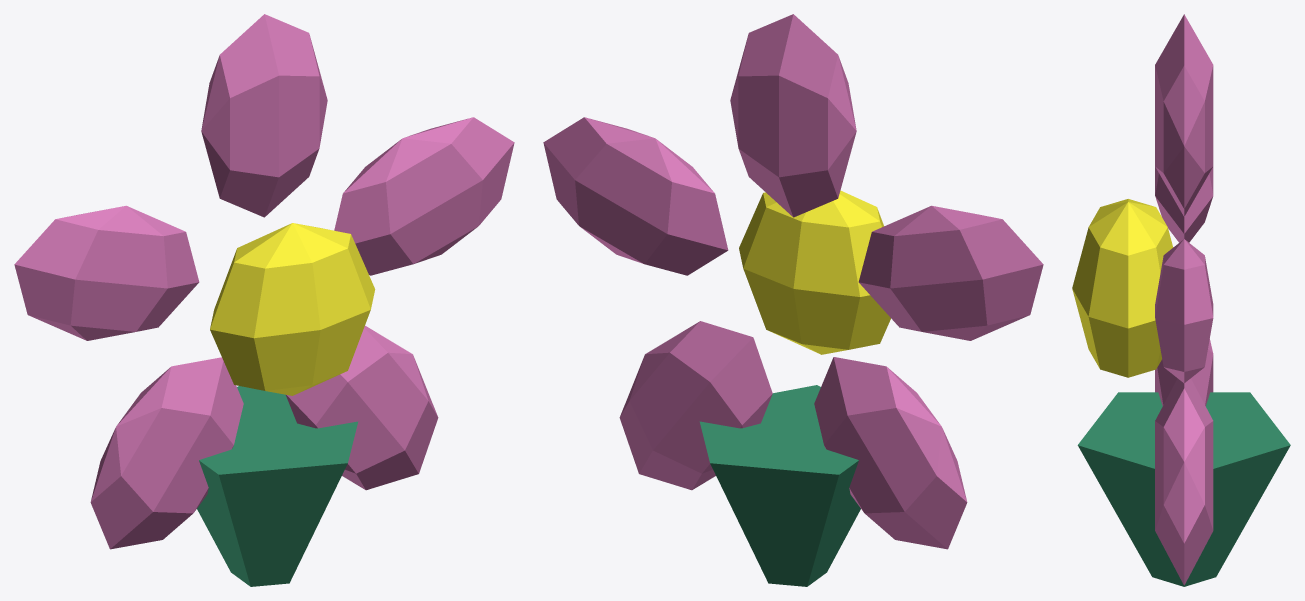
File: bloom.glb
The picture shows the model from 3 angles, left to right: view 1: azimuth 30°, elevation 25°; view 2: azimuth 150°, elevation 25°; view 3: azimuth 270°, elevation 25°; orthographic projection.
Parts seen in each view (by area): view 1: Bloom; view 2: Bloom; view 3: Bloom.
Part boxes in pixels (x1=…): Bloom: x1=14, y1=14, x2=514, y2=586; Bloom: x1=543, y1=14, x2=1043, y2=586; Bloom: x1=1072, y1=14, x2=1290, y2=586.
Bounding box in the file's own units: 0.5142 × 0.55 × 0.1951.
